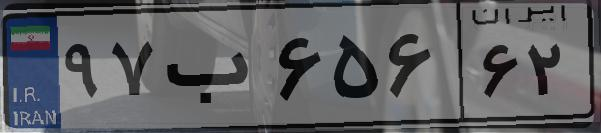2: (525, 38, 570, 115)
5: (330, 28, 385, 110)
6: (270, 28, 330, 110), (385, 28, 445, 110), (475, 38, 525, 113)
7: (110, 28, 158, 98)
9: (57, 26, 110, 100)
ب: (158, 20, 270, 120)
